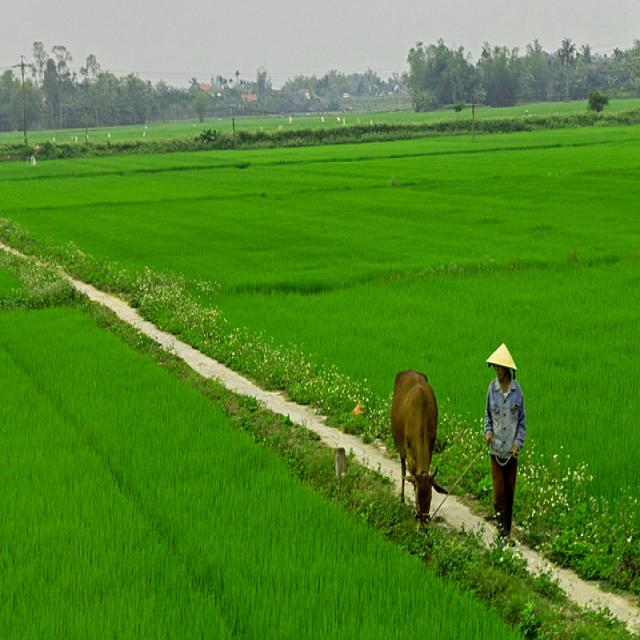cow: (391, 369, 446, 523)
